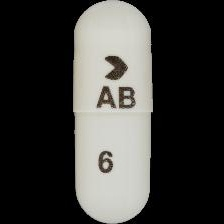63187-370: (0, 0, 224, 224)
